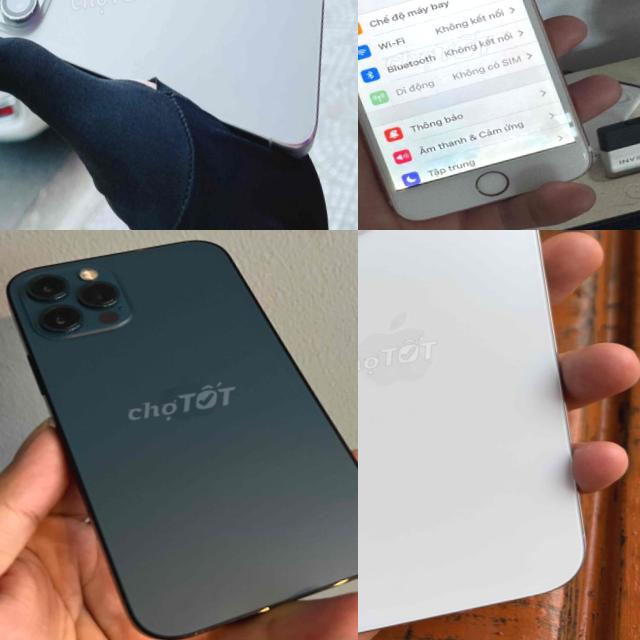gen_12_13: (0, 230, 358, 640), (0, 0, 355, 216)
gen_16: (358, 230, 610, 640)
gen_7_8: (358, 0, 618, 229)
